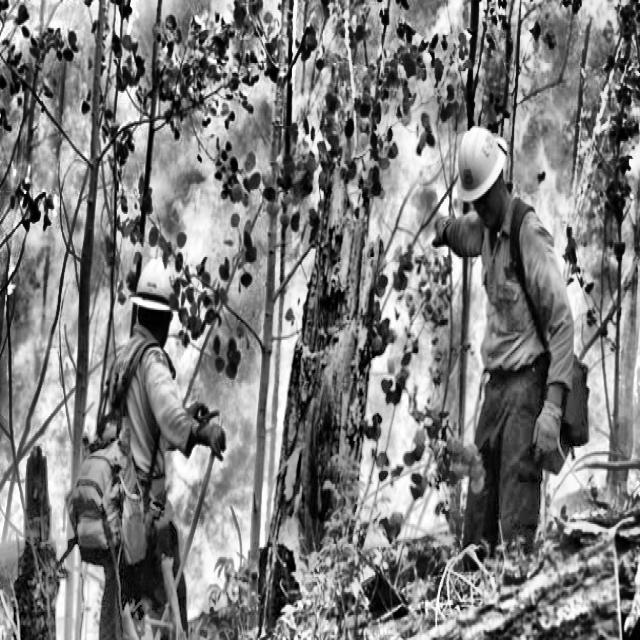fire: (27, 90, 602, 540)
